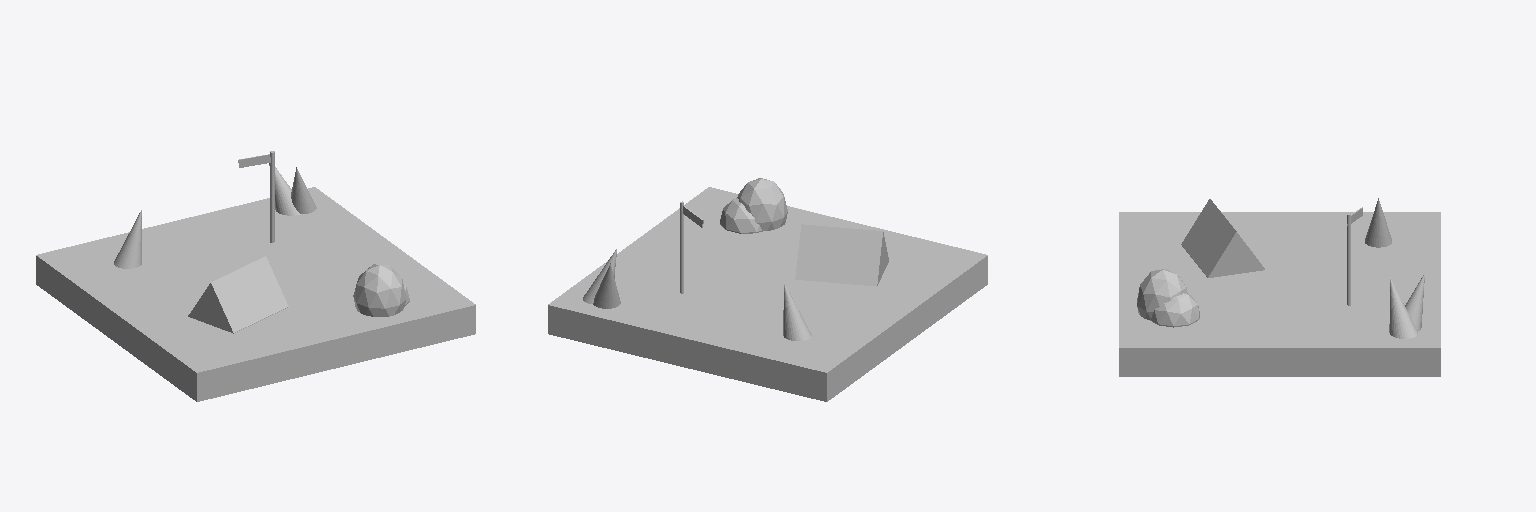
File: start.obj
3 views of the same model, side by side, from view 1: azimuth 30°, elevation 25°; view 2: azimuth 150°, elevation 25°; view 3: azimuth 270°, elevation 25° (orthographic).
Visible parts, largest first — view 1: Cone; view 2: Cone; view 3: Cone.
Part boxes in pixels (x1,y1,x2,y2): Cone: (36, 151, 475, 401); Cone: (548, 178, 987, 401); Cone: (1119, 198, 1440, 376).
Size of the model in its own units: 20 by 9.09 by 20.